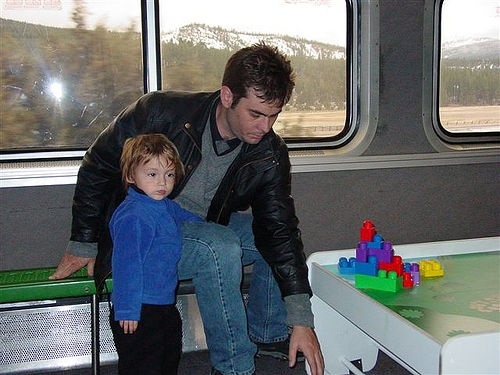head: (220, 45, 296, 149), (123, 134, 183, 205)
person: (61, 40, 319, 375), (105, 136, 246, 375)
